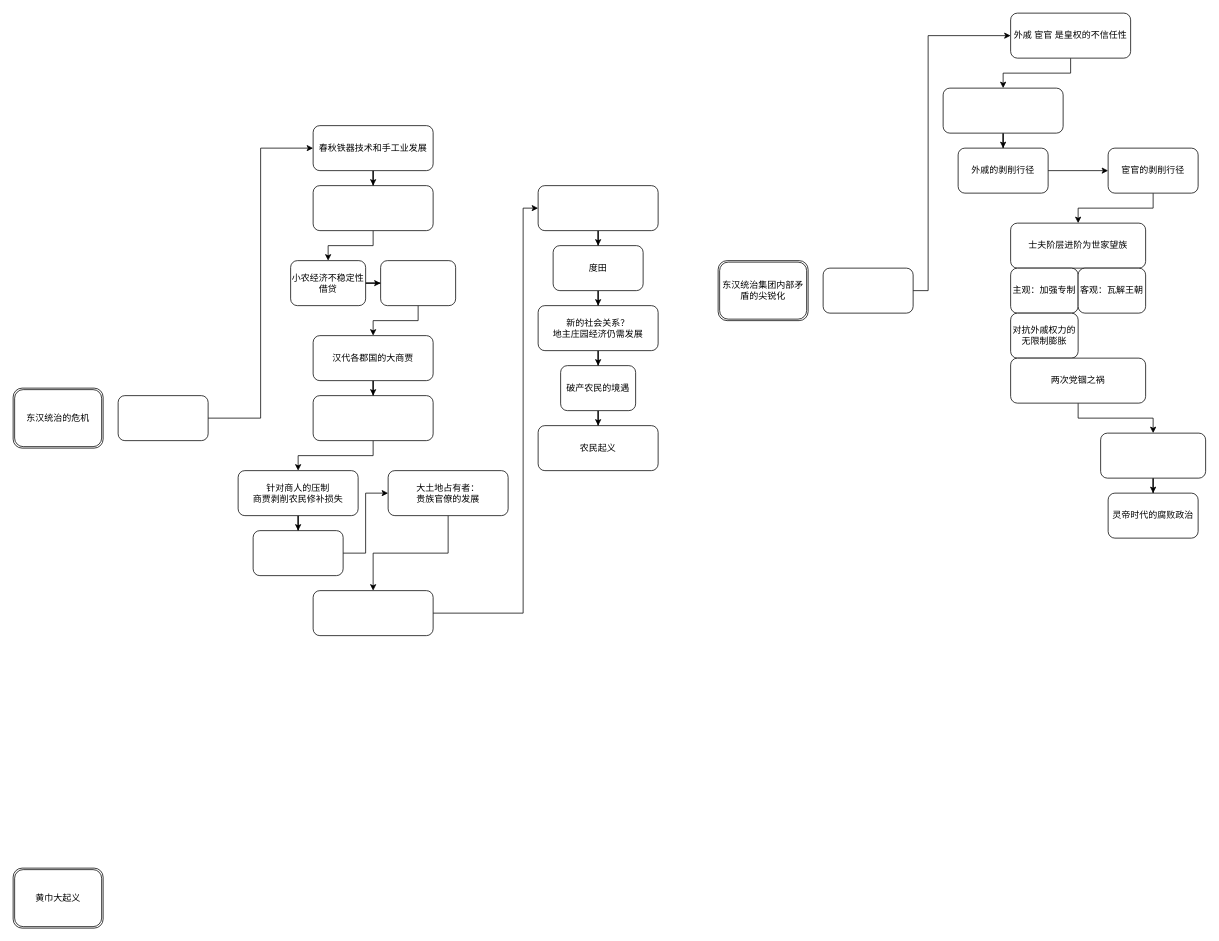
This 1219x941 diagram has some shape labels left out. Each missing label, with the centre of its shape:
"东汉外戚出身：功勋阶层" goes at [1002,110].
"两汉农民破产情况表" goes at [597,208].
"割据条件的形成" goes at [867,290].
"商品货币和商人的发展 （编户齐民）" goes at [372,208].
"宦官替代世家的生态位" goes at [1153,455].
"小农经济不稳定性 土地兼并" goes at [418,283].
"小生产者，农民破产 社会问题" goes at [372,613].
"汉专制政府的剥削和保护" goes at [372,418].
"社会经济危机总览" goes at [162,418].
"高利贷流向土地" goes at [297,553].
